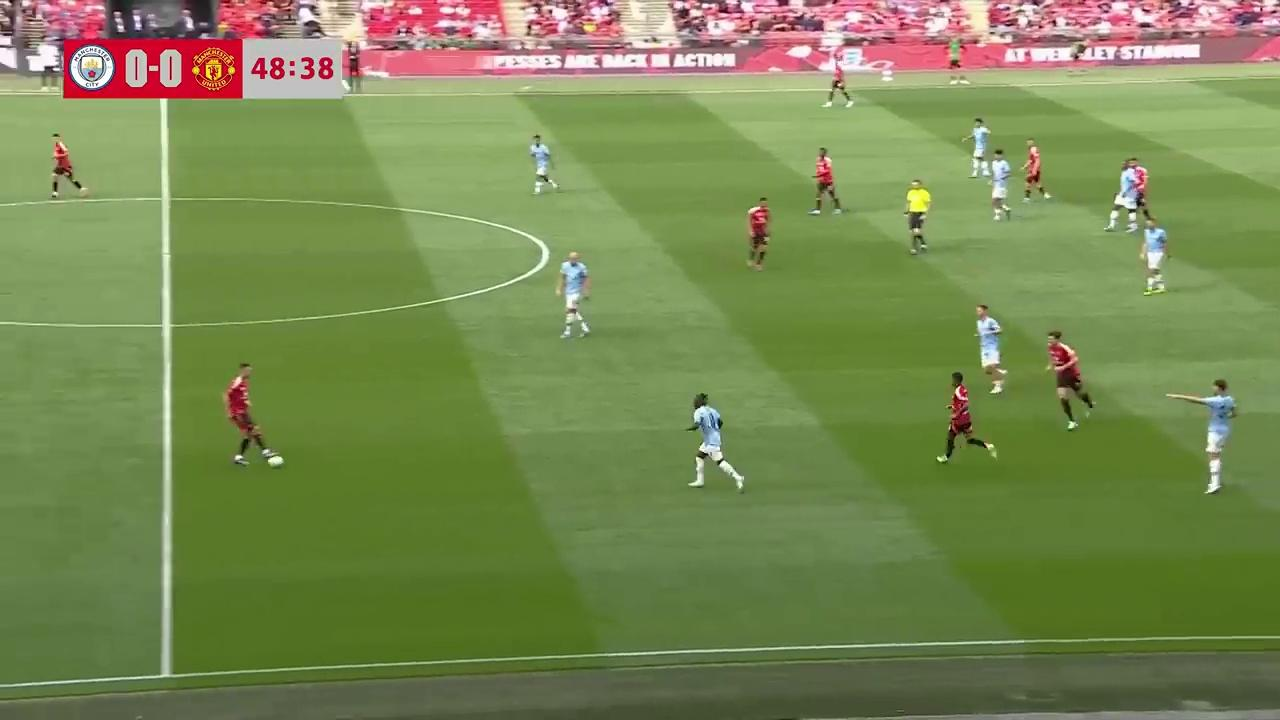ball: (267, 449, 283, 472)
player: (223, 362, 283, 468), (686, 393, 745, 492), (936, 371, 998, 465), (1045, 330, 1096, 430), (1199, 378, 1237, 494), (973, 304, 1008, 394), (556, 250, 591, 339), (49, 133, 89, 200), (1105, 156, 1136, 233), (1139, 214, 1168, 294), (810, 147, 843, 216), (528, 133, 558, 195), (1020, 139, 1050, 201), (988, 149, 1013, 221), (747, 196, 771, 270), (823, 54, 853, 108), (964, 116, 990, 177), (1131, 158, 1152, 226)
referee: (904, 177, 932, 254)
